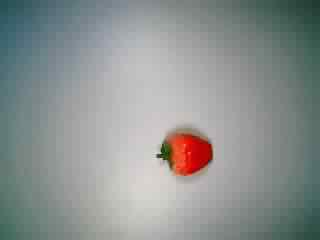strawberry: (148, 121, 216, 185)
